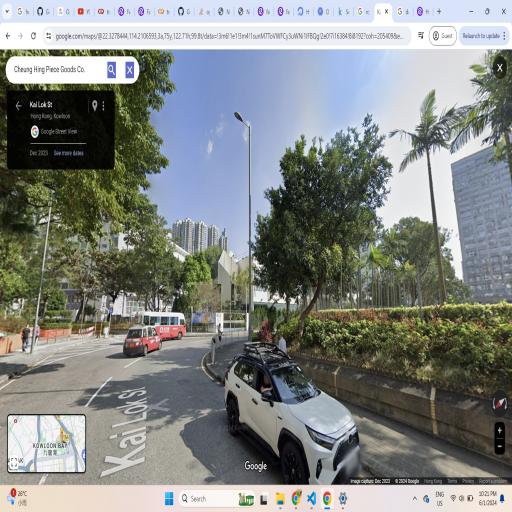Roads: (8, 315, 286, 473)
Trees: (252, 96, 414, 344), (393, 78, 473, 320)
